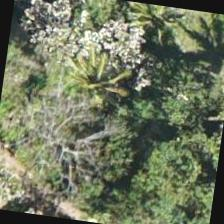Kelapa_Sawit: (39, 30, 141, 132)
